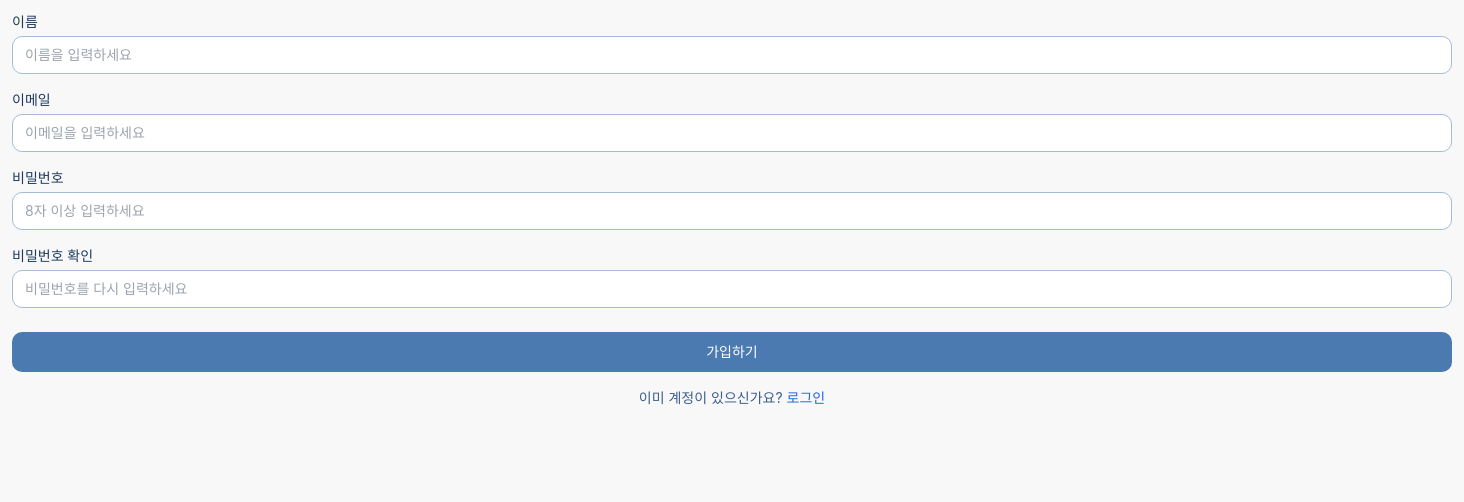
Test: SignupForm › 유효성 검증 › 빈 폼 제출 시 모든 필드에 오류 메시지를 표시한다
Click the button "가입하기": (732, 352) 12,332 -> 1452,372
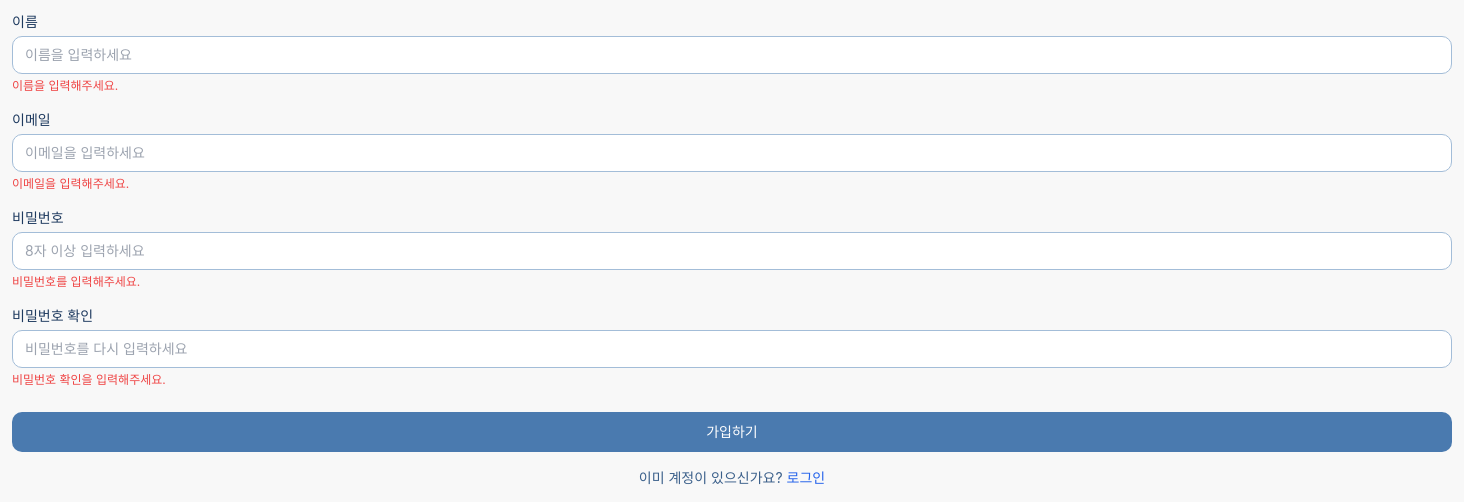
Now the text "이름을 입력해주세요." is shown, box 12,78 -> 118,93
Now the text "이메일을 입력해주세요." is shown, box 12,176 -> 129,191
Now the text "비밀번호를 입력해주세요." is shown, box 12,274 -> 140,289
